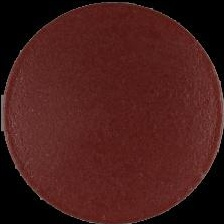16729-173: (0, 0, 224, 224)
